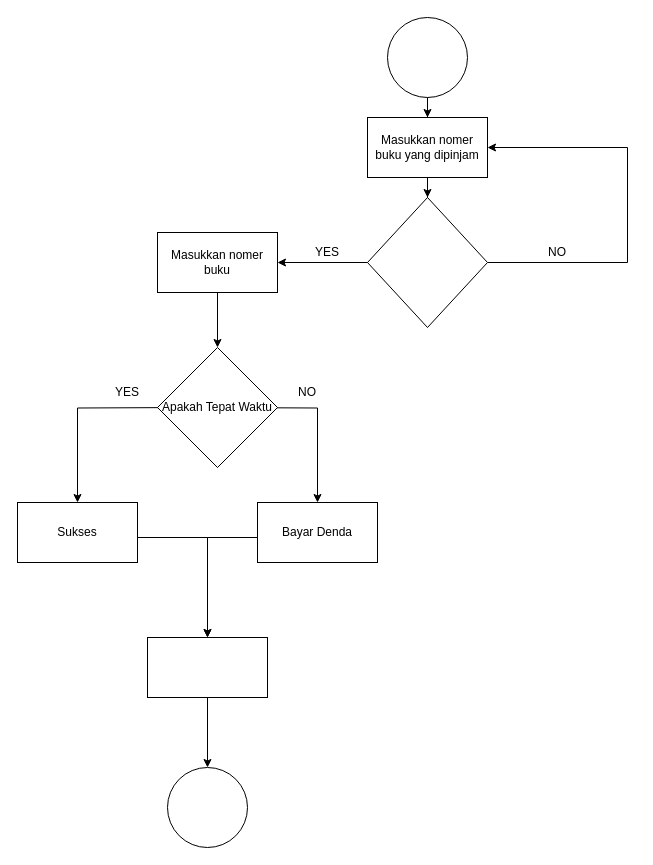
Some shapes in this 653 by 865 pixel diagram are drawn without their labels. The centre of each missing label's shape, as x and y in pixels:
Apakah data yang dimasukkan valid: point (427, 262)
Kembalikan Buku: point (427, 57)
Selesai: point (207, 667)
